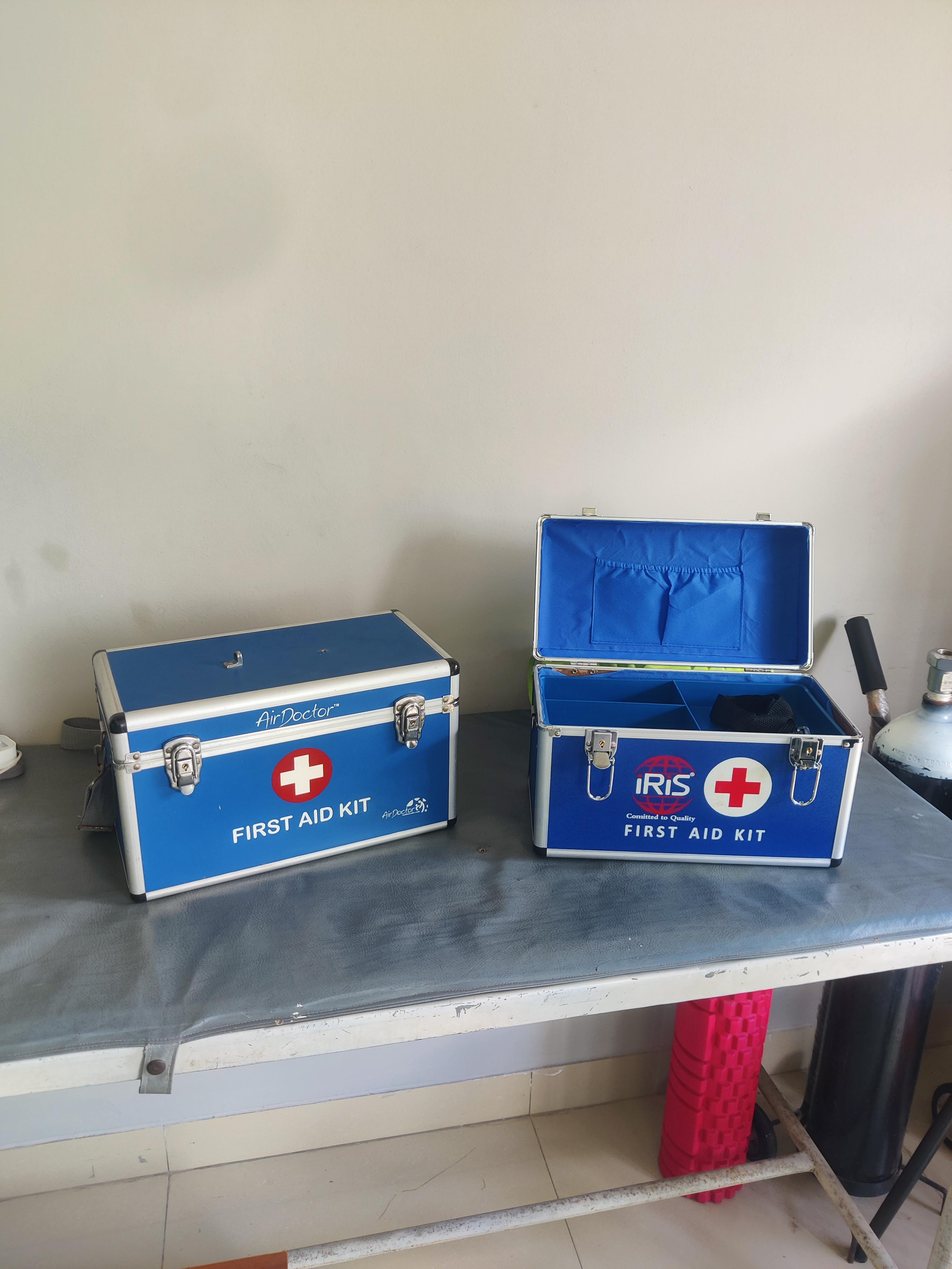FirstAidBox: (519, 485, 877, 872), (51, 598, 473, 923)
